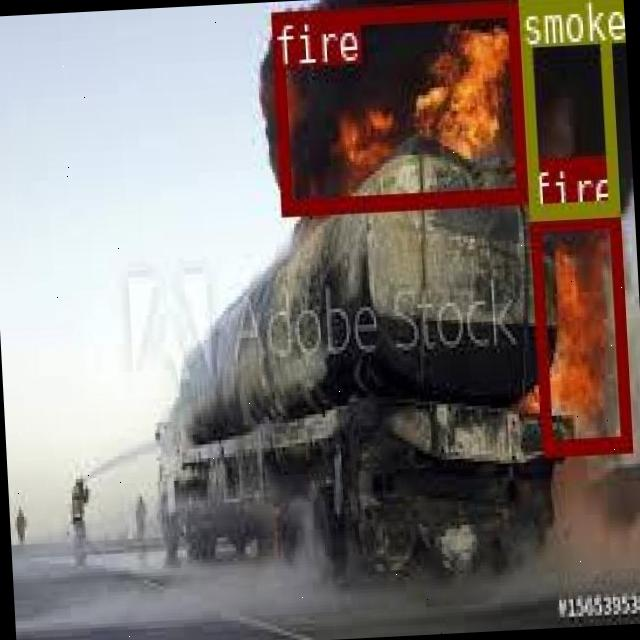fire: (271, 0, 525, 210), (528, 210, 629, 452)
smoke: (517, 0, 618, 218)
